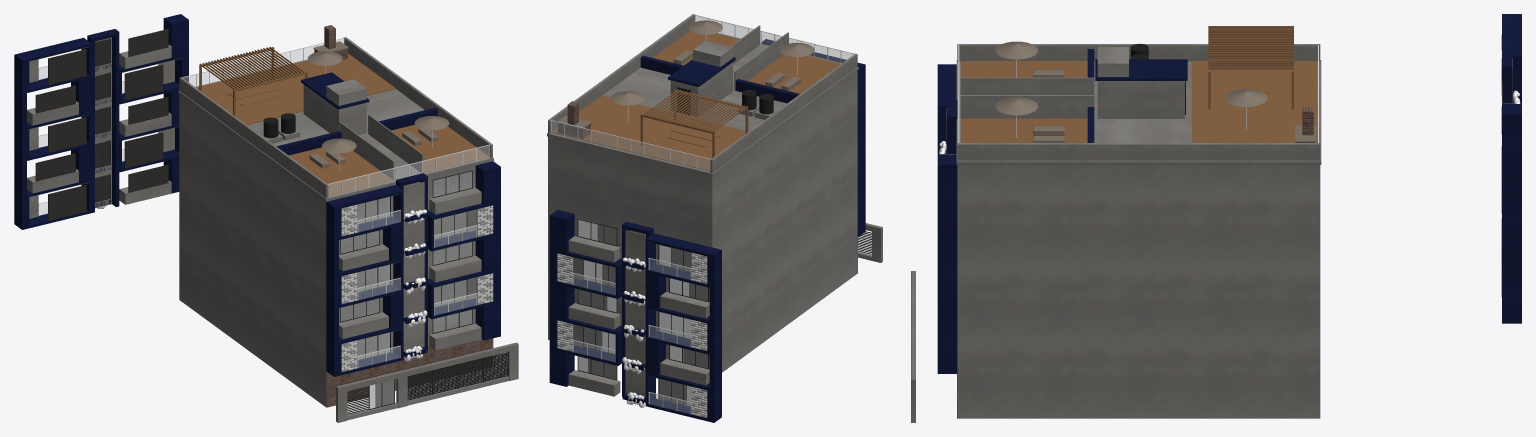
Rendered from edificio-v1.glb.
The picture shows the model from 3 angles, left to right: view 1: azimuth 30°, elevation 25°; view 2: azimuth 150°, elevation 25°; view 3: azimuth 270°, elevation 25°; orthographic projection. The views are drawn at different scales.
Parts seen in each view (by area): view 1: cuerpo, deck_comun, pilastra_izq (×2), parapeto_azotea, franja_fondo (×2), zocalo, parapeto_lateral, deck, parapeto_lateral.001, deck.001, franja_der (×2), baranda.005 (+52 smaller); view 2: cuerpo, deck_comun, parapeto_azotea, pilastra_izq (×2), franja_fondo, parapeto_lateral, baranda.006, parapeto_lateral.001, deck, caja_escalera, baranda.005, deck.001 (+57 smaller); view 3: cuerpo, pilastra_der (×2), deck_comun, parapeto_lateral.001, parapeto_azotea, parapeto_lateral, caja_escalera, deck.001, muro_terraza.001, muro_terraza, deck, marco_sup.004 (×2) (+6 smaller).
Boxes of the visible parts, box(x1,y1,x2,y2) form: cuerpo: box(179, 95, 476, 406); deck_comun: box(196, 53, 395, 125); pilastra_izq (×2): box(14, 53, 338, 376); parapeto_azotea: box(178, 59, 493, 201); franja_fondo (×2): box(95, 37, 424, 351); zocalo: box(326, 338, 493, 407); parapeto_lateral: box(179, 77, 328, 198); deck: box(289, 147, 393, 196); parapeto_lateral.001: box(343, 37, 492, 158); deck.001: box(391, 124, 488, 173); franja_der (×2): box(112, 32, 427, 350); baranda.005: box(329, 146, 488, 196); cuerpo: box(548, 71, 857, 372); deck_comun: box(552, 95, 748, 171); parapeto_azotea: box(547, 33, 858, 176); pilastra_izq (×2): box(709, 63, 865, 422); franja_fondo: box(625, 230, 645, 402); parapeto_lateral: box(710, 53, 857, 173); baranda.006: box(551, 121, 709, 171); parapeto_lateral.001: box(548, 14, 694, 133); deck: box(748, 54, 840, 93); caja_escalera: box(670, 62, 732, 116); baranda.005: box(695, 16, 853, 63); deck.001: box(653, 30, 739, 65); cuerpo: box(957, 165, 1320, 418); pilastra_der (×2): box(937, 111, 1521, 373); deck_comun: box(1191, 61, 1317, 142); parapeto_lateral.001: box(957, 143, 1320, 160); parapeto_azotea: box(956, 60, 1321, 164); parapeto_lateral: box(957, 44, 1320, 61); caja_escalera: box(1097, 81, 1184, 118); deck.001: box(960, 118, 1087, 142); muro_terraza.001: box(960, 95, 1094, 118); muro_terraza: box(960, 77, 1094, 94); deck: box(960, 61, 1087, 77); marco_sup.004 (×2): box(937, 16, 1521, 108).
Size of the model in its own units: 22.2 by 20.95 by 37.
16 materials, 4 textured.
